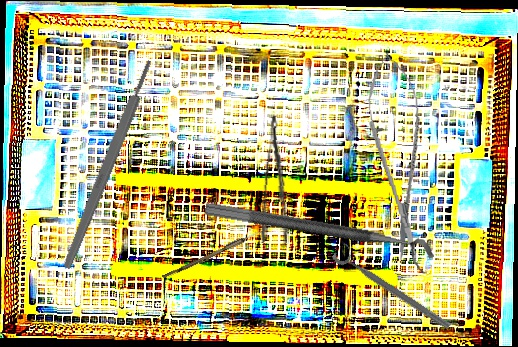Dressing Forceps: (258, 114, 300, 246)
Fixation Ring: (200, 201, 437, 275), (330, 239, 458, 334)
Micro Scissor: (360, 50, 436, 263)
Scalpel Handle: (60, 58, 157, 271)
Surgical Spoon: (161, 222, 274, 282)
